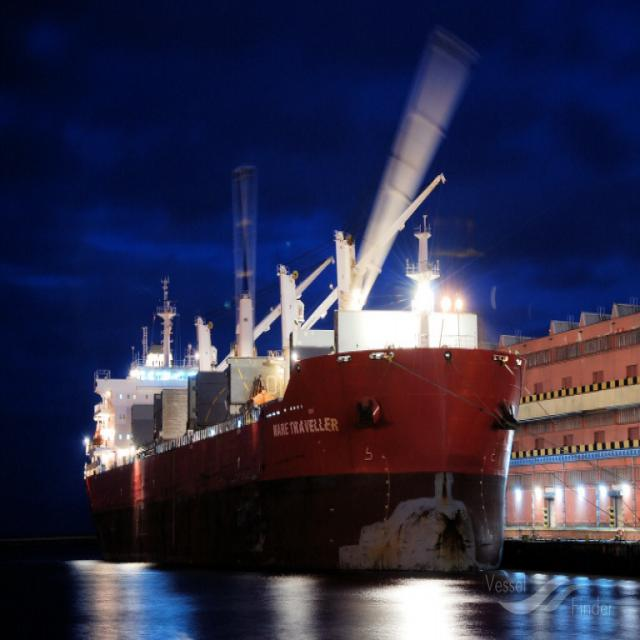OCR: (262, 415, 344, 440)
